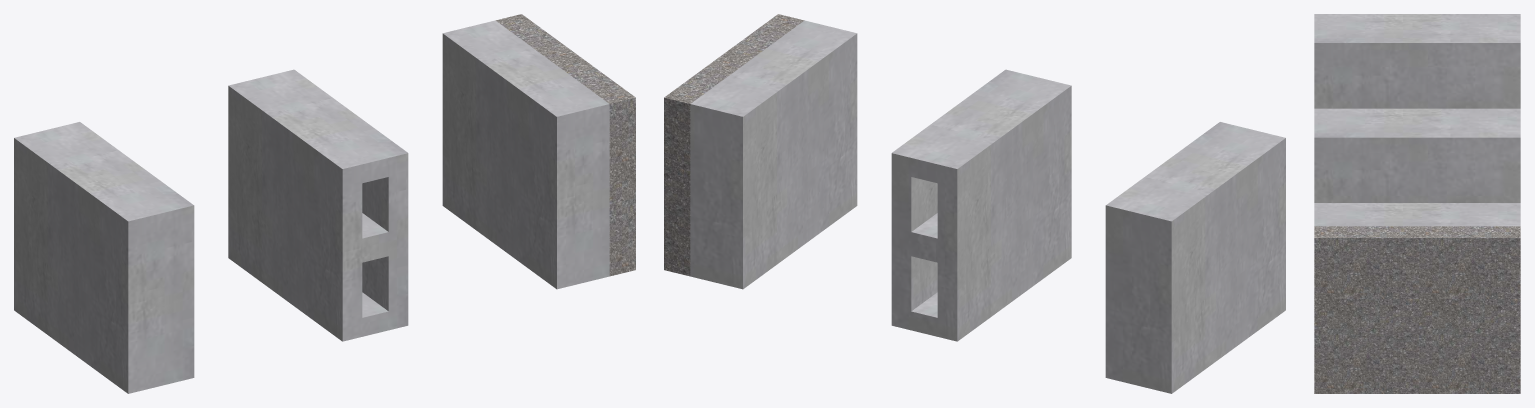
Rendered from wall-construction-forms.glb.
3 views of the same model, side by side, from view 1: azimuth 30°, elevation 25°; view 2: azimuth 150°, elevation 25°; view 3: azimuth 270°, elevation 25° (orthographic). The views are drawn at different scales.
Parts seen in each view (by area): view 1: 组合墙, 空体墙, 实体墙; view 2: 组合墙, 空体墙, 实体墙; view 3: 组合墙, 空体墙, 实体墙.
Boxes of the visible parts, bbox=[...] form: 组合墙: bbox=[442, 14, 635, 289]; 空体墙: bbox=[228, 69, 408, 341]; 实体墙: bbox=[14, 122, 194, 393]; 组合墙: bbox=[664, 14, 857, 289]; 空体墙: bbox=[891, 69, 1071, 341]; 实体墙: bbox=[1105, 122, 1285, 393]; 组合墙: bbox=[1314, 203, 1520, 393]; 空体墙: bbox=[1314, 108, 1520, 202]; 实体墙: bbox=[1314, 14, 1520, 108].
Bounding box in the file's own units: 1.54 × 0.5 × 0.6.
4 materials, 4 textured.
